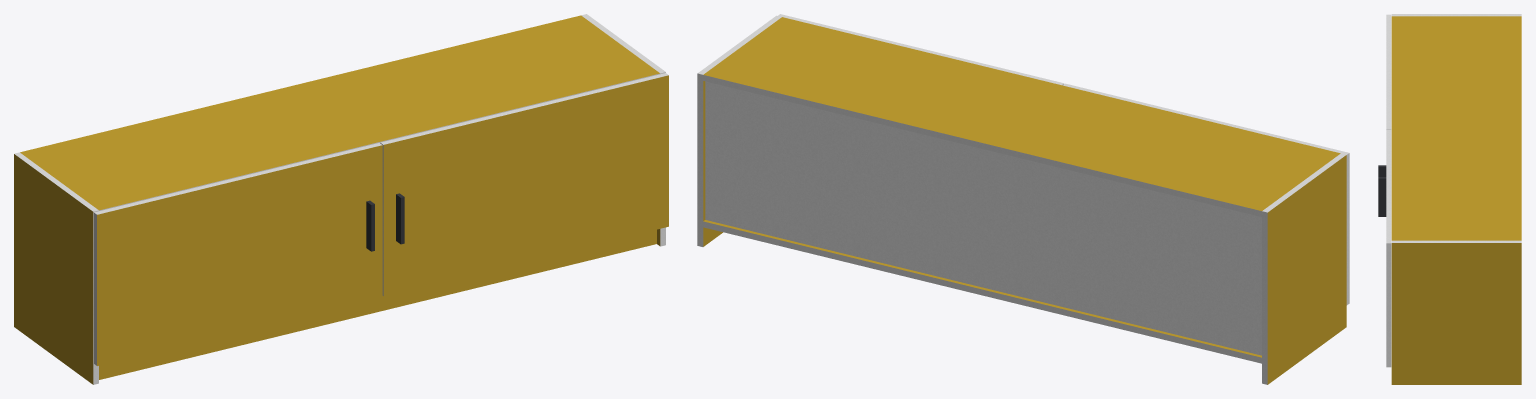
File: FET-MED-std.glb
3 renders of one model, left to right at view 1: azimuth 30°, elevation 25°; view 2: azimuth 150°, elevation 25°; view 3: azimuth 270°, elevation 25°, orthographic. The views are drawn at different scales.
Parts seen in each view (by area): view 1: top:pbr, door-l:pbr, door-r:pbr, side-l:pbr, plinth:pbr, door-l:sheet:eyJtIjoibWRmIiwic2lkZSI6ImVkZ2UtbG9uZyIsInNlZWQ, door-r:sheet:eyJtIjoibWRmIiwic2lkZSI6ImVkZ2UtbG9uZyIsInNlZWQ, pull, top:sheet:eyJtIjoibWRmIiwic2lkZSI6ImVkZ2UtbG9uZyIsInNlZWQiOj; view 2: back:sheet:eyJtIjoibWRmIiwic2lkZSI6ImZhY2UiLCJzZWVkIjoxLCJ0a, top:pbr, side-l:pbr, bottom:sheet:eyJtIjoibWRmIiwic2lkZSI6ImVkZ2UtbG9uZyIsInNlZWQ, top:sheet:eyJtIjoibWRmIiwic2lkZSI6ImVkZ2UtbG9uZyIsInNlZWQiOj, bottom:pbr, side-r:sheet:eyJtIjoibWRmIiwic2lkZSI6ImVkZ2UtbG9uZyIsInNlZWQ, side-l:sheet:eyJtIjoibWRmIiwic2lkZSI6ImVkZ2UtbG9uZyIsInNlZWQ, door-l:sheet:eyJtIjoibWRmIiwic2lkZSI6ImVkZ2UtbG9uZyIsInNlZWQ, door-r:sheet:eyJtIjoibWRmIiwic2lkZSI6ImVkZ2UtbG9uZyIsInNlZWQ, side-r:pbr, door-l:sheet:eyJtIjoibWRmIiwic2lkZSI6ImVkZ2UtZW5kIiwic2VlZCI; view 3: top:pbr, side-r:pbr, door-r:sheet:eyJtIjoibWRmIiwic2lkZSI6ImVkZ2UtZW5kIiwic2VlZCI, door-l:sheet:eyJtIjoibWRmIiwic2lkZSI6ImVkZ2UtbG9uZyIsInNlZWQ, door-r:sheet:eyJtIjoibWRmIiwic2lkZSI6ImVkZ2UtbG9uZyIsInNlZWQ, pull, side-l:sheet:eyJtIjoibWRmIiwic2lkZSI6ImVkZ2UtZW5kIiwic2VlZCI, side-r:sheet:eyJtIjoibWRmIiwic2lkZSI6ImVkZ2UtZW5kIiwic2VlZCI.
Part boxes in pixels (box(x1,y1,x2,y2)): top:pbr: box(20, 15, 659, 210); door-l:pbr: box(97, 145, 382, 365); door-r:pbr: box(383, 75, 668, 295); side-l:pbr: box(14, 154, 93, 384); plinth:pbr: box(99, 229, 656, 379); door-l:sheet:eyJtIjoibWRmIiwic2lkZSI6ImVkZ2UtbG9uZyIsInNlZWQ: box(94, 143, 382, 214); door-r:sheet:eyJtIjoibWRmIiwic2lkZSI6ImVkZ2UtbG9uZyIsInNlZWQ: box(381, 73, 668, 144); pull: box(366, 193, 404, 251); top:sheet:eyJtIjoibWRmIiwic2lkZSI6ImVkZ2UtbG9uZyIsInNlZWQiOj: box(99, 73, 659, 210); back:sheet:eyJtIjoibWRmIiwic2lkZSI6ImZhY2UiLCJzZWVkIjoxLCJ0a: box(705, 81, 1261, 355); top:pbr: box(703, 17, 1340, 210); side-l:pbr: box(1267, 155, 1346, 384); bottom:sheet:eyJtIjoibWRmIiwic2lkZSI6ImVkZ2UtbG9uZyIsInNlZWQ: box(703, 221, 1261, 363); top:sheet:eyJtIjoibWRmIiwic2lkZSI6ImVkZ2UtbG9uZyIsInNlZWQiOj: box(703, 75, 1261, 216); bottom:pbr: box(703, 220, 1261, 357); side-r:sheet:eyJtIjoibWRmIiwic2lkZSI6ImVkZ2UtbG9uZyIsInNlZWQ: box(697, 73, 703, 246); side-l:sheet:eyJtIjoibWRmIiwic2lkZSI6ImVkZ2UtbG9uZyIsInNlZWQ: box(1262, 211, 1267, 384); door-l:sheet:eyJtIjoibWRmIiwic2lkZSI6ImVkZ2UtbG9uZyIsInNlZWQ: box(1063, 83, 1348, 154); door-r:sheet:eyJtIjoibWRmIiwic2lkZSI6ImVkZ2UtbG9uZyIsInNlZWQ: box(778, 14, 1063, 85); side-r:pbr: box(703, 81, 722, 246); door-l:sheet:eyJtIjoibWRmIiwic2lkZSI6ImVkZ2UtZW5kIiwic2VlZCI: box(1346, 153, 1349, 305); top:pbr: box(1391, 16, 1521, 240); side-r:pbr: box(1391, 243, 1521, 384); door-r:sheet:eyJtIjoibWRmIiwic2lkZSI6ImVkZ2UtZW5kIiwic2VlZCI: box(1386, 243, 1391, 367); door-l:sheet:eyJtIjoibWRmIiwic2lkZSI6ImVkZ2UtbG9uZyIsInNlZWQ: box(1386, 14, 1391, 128); door-r:sheet:eyJtIjoibWRmIiwic2lkZSI6ImVkZ2UtbG9uZyIsInNlZWQ: box(1386, 129, 1391, 243); pull: box(1378, 165, 1386, 216); side-l:sheet:eyJtIjoibWRmIiwic2lkZSI6ImVkZ2UtZW5kIiwic2VlZCI: box(1391, 14, 1521, 16); side-r:sheet:eyJtIjoibWRmIiwic2lkZSI6ImVkZ2UtZW5kIiwic2VlZCI: box(1391, 240, 1521, 242).
Size of the model in its own units: 1.8 by 0.52 by 0.4769.
Materials: 34 (23 with a texture image).
